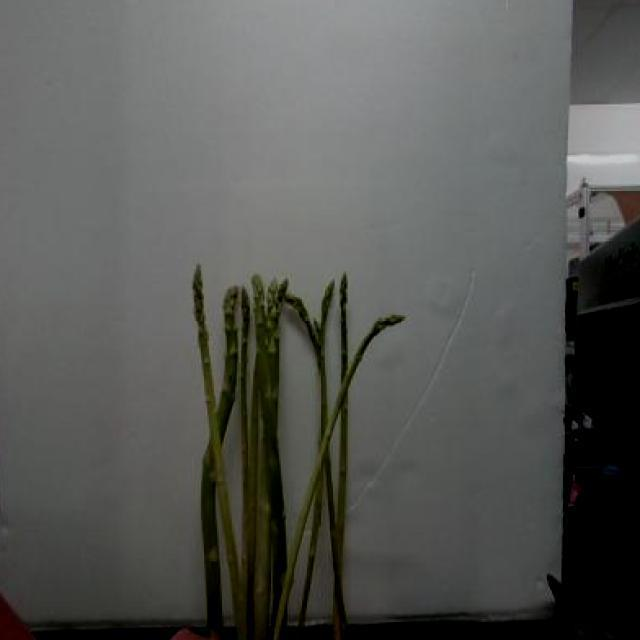aspargus: (271, 317, 409, 639), (190, 265, 244, 640)
